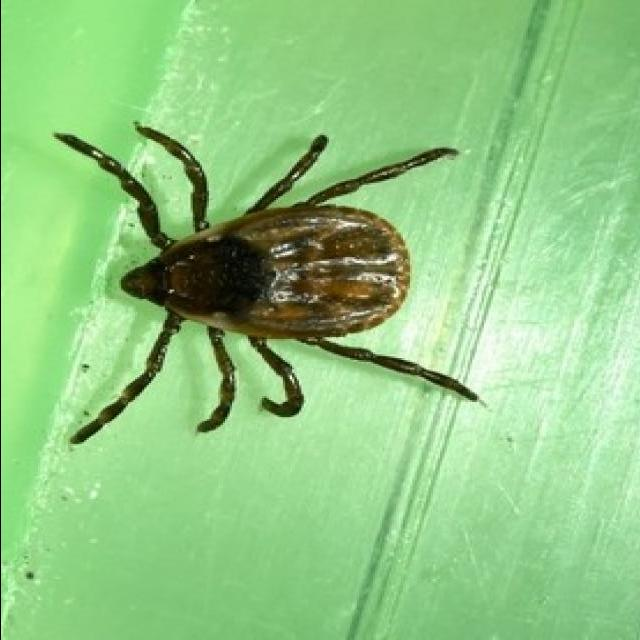Rhipicephalus Sanguineus-F: (51, 124, 478, 446)
